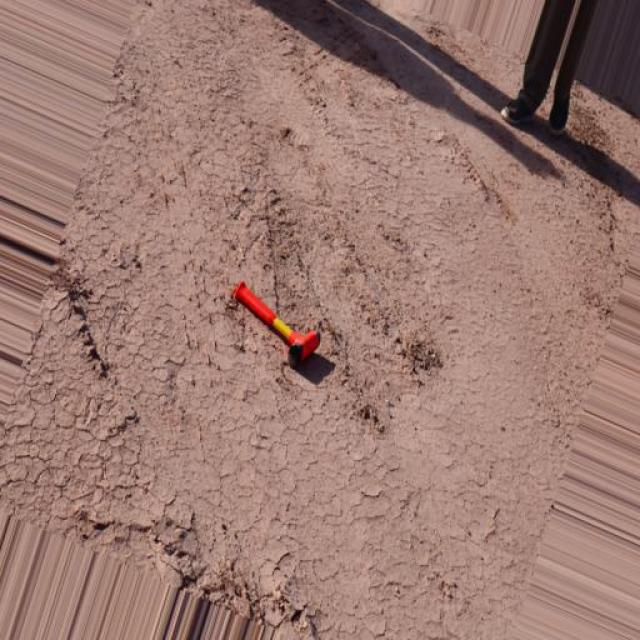mallet: (230, 278, 321, 368)
